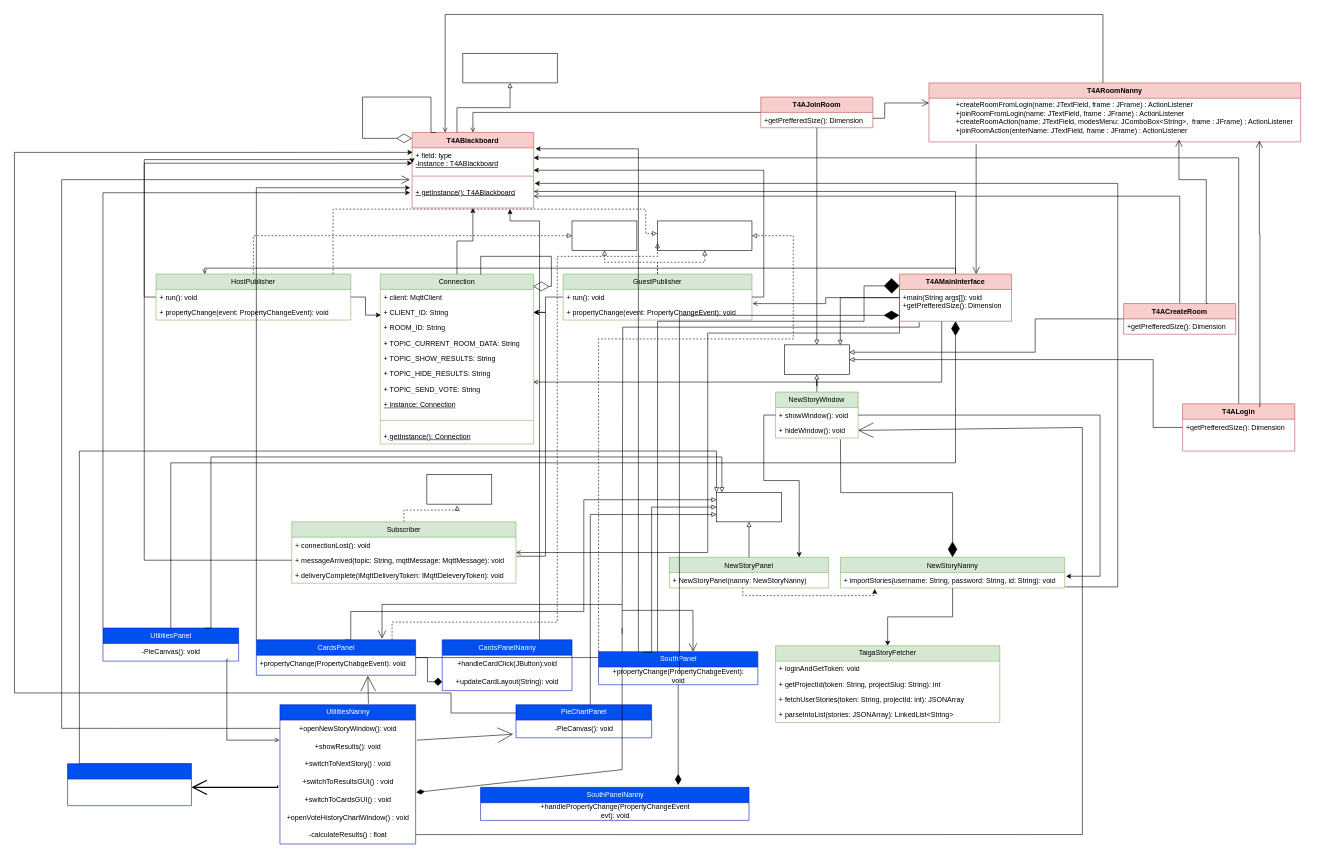
The diagram is 1335 pixels wide and 861 high, and some of its shapes have lost their labels. Each missing label, with the centre of its shape:
JFrame: pixel 816 359
JPanel: pixel 748 507
PropertyChangeSupport: pixel 509 68
VotingLineChartPanel: pixel 129 784
«interface» MqttCallback: pixel 459 489
«interface» PropertyChangeListener: pixel 704 235
«interface» Runnable: pixel 604 235
